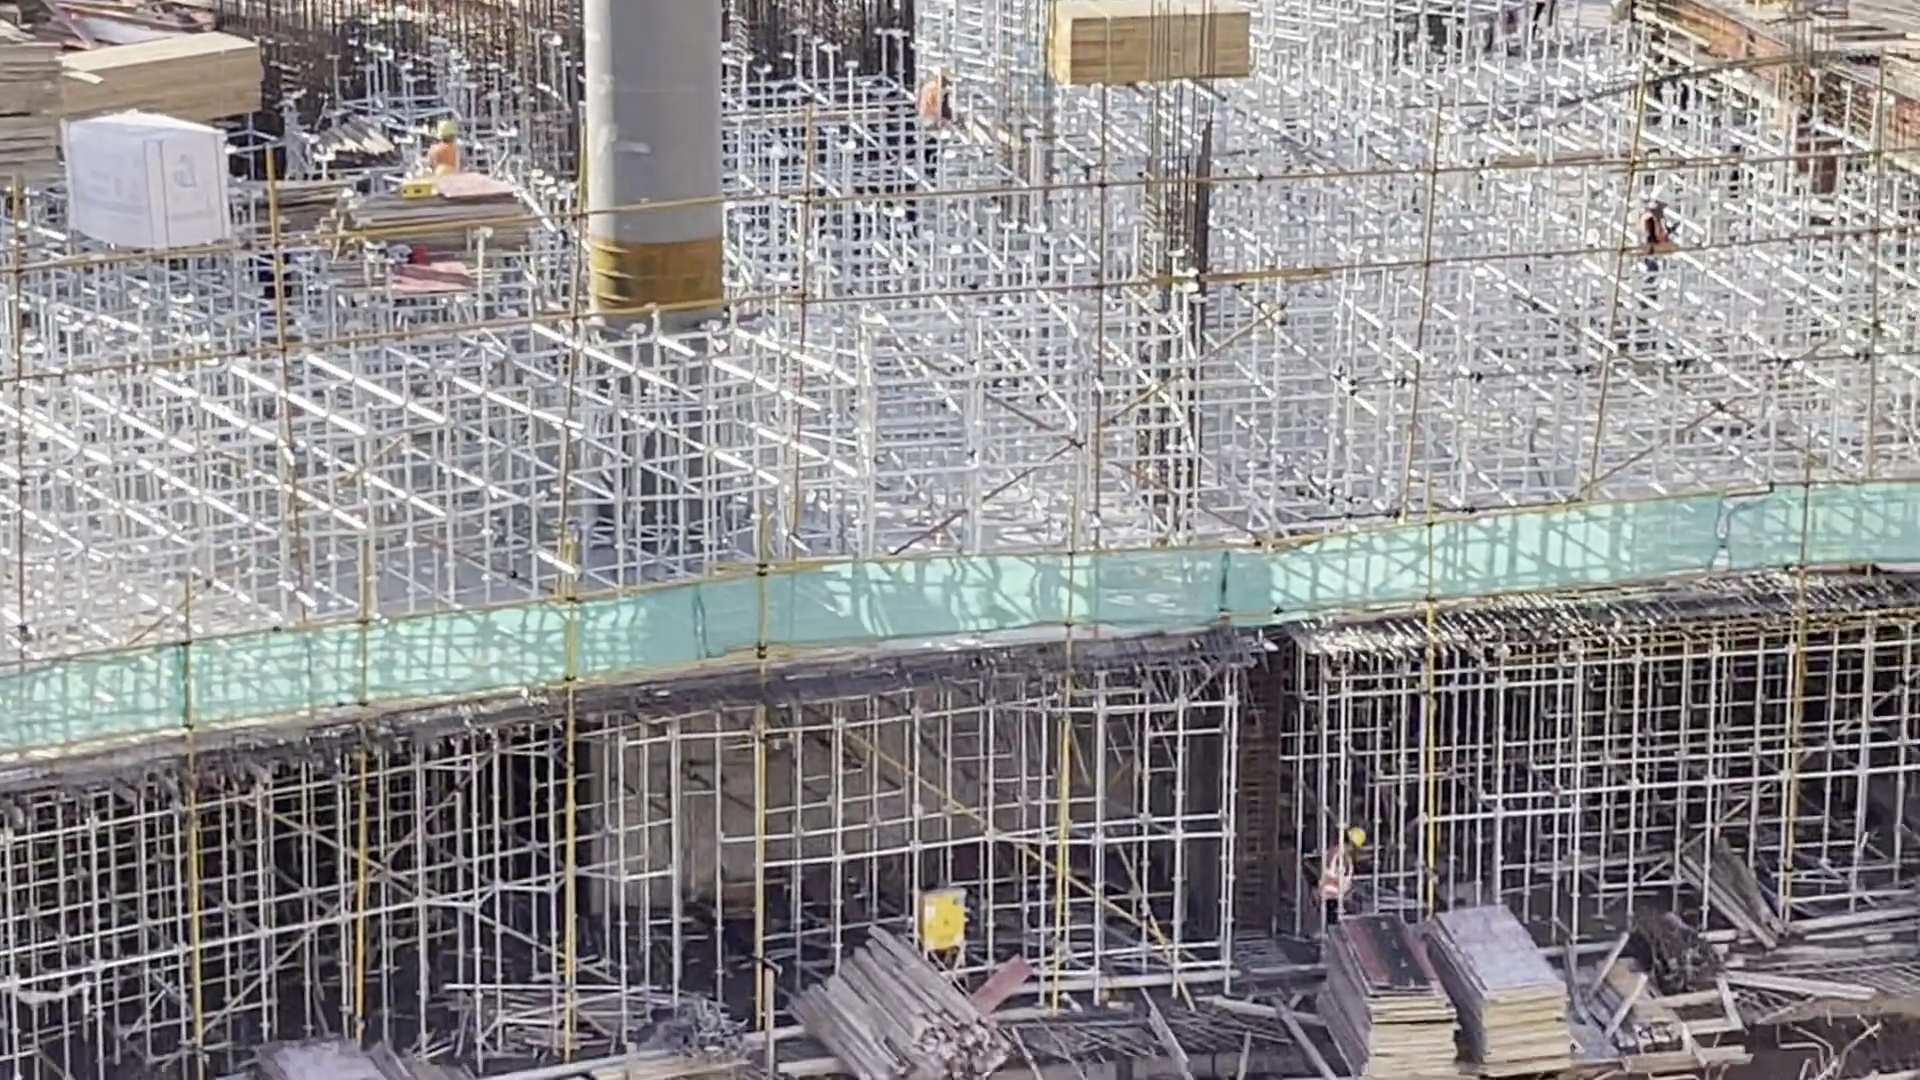board: (1307, 909, 1462, 1080), (1434, 902, 1576, 1080), (244, 1034, 382, 1080)
ebox: (911, 885, 967, 956)
helmet: (1649, 185, 1676, 207), (432, 119, 458, 140), (1349, 825, 1365, 849)
person: (422, 116, 472, 176), (1641, 184, 1681, 245), (921, 61, 955, 120)
vest: (429, 142, 462, 176), (922, 83, 940, 120)
wood: (777, 920, 1016, 1080), (63, 30, 264, 117), (1040, 2, 1252, 83), (3, 27, 64, 193)
